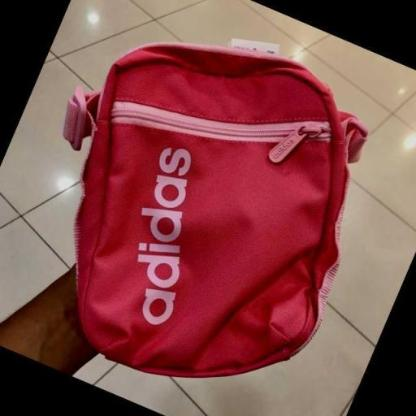bag: (58, 27, 370, 383)
